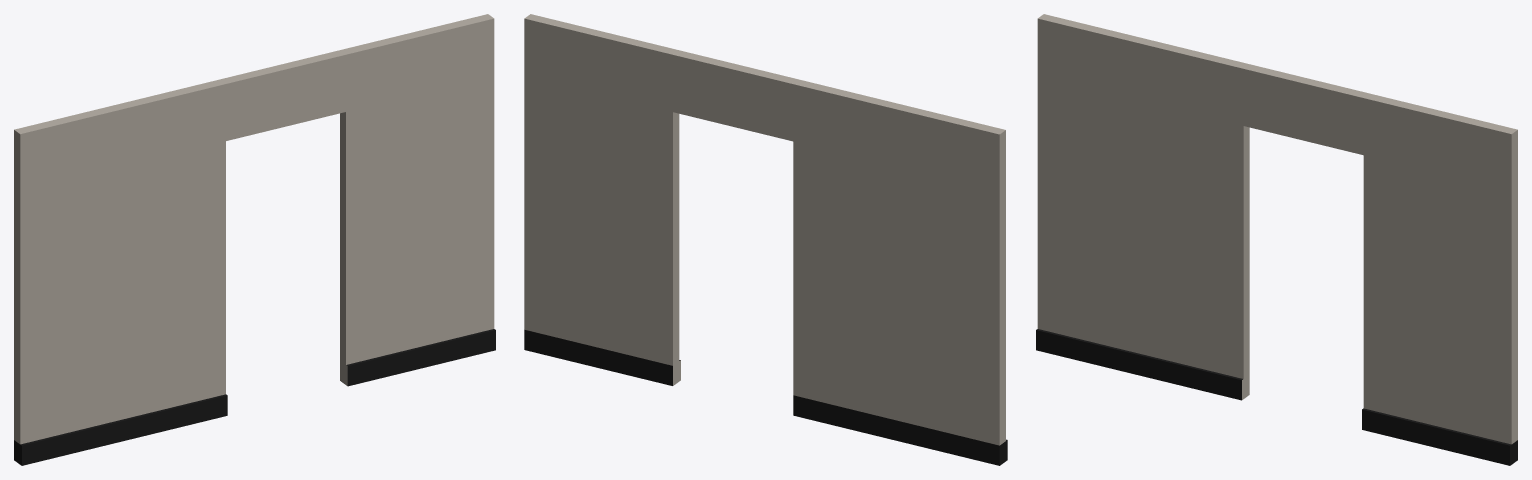
File: Wall 4.FBX
3 renders of one model, left to right at view 1: azimuth 30°, elevation 25°; view 2: azimuth 150°, elevation 25°; view 3: azimuth 330°, elevation 25°, orthographic.
Visible parts, largest first — view 1: Wall 4; view 2: Wall 4; view 3: Wall 4.
Boxes of the visible parts, x1,y1,x2,y2 form: Wall 4: (14, 14, 495, 465); Wall 4: (524, 14, 1007, 465); Wall 4: (1036, 14, 1517, 465).
Size of the model in its own units: 4503 by 3000 by 129.
1 material, 1 textured.
